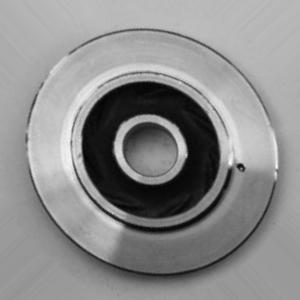pit: (230, 158, 255, 179)
scratch: (63, 81, 105, 151), (20, 114, 44, 163)
unpolished_casting: (25, 27, 283, 277)
